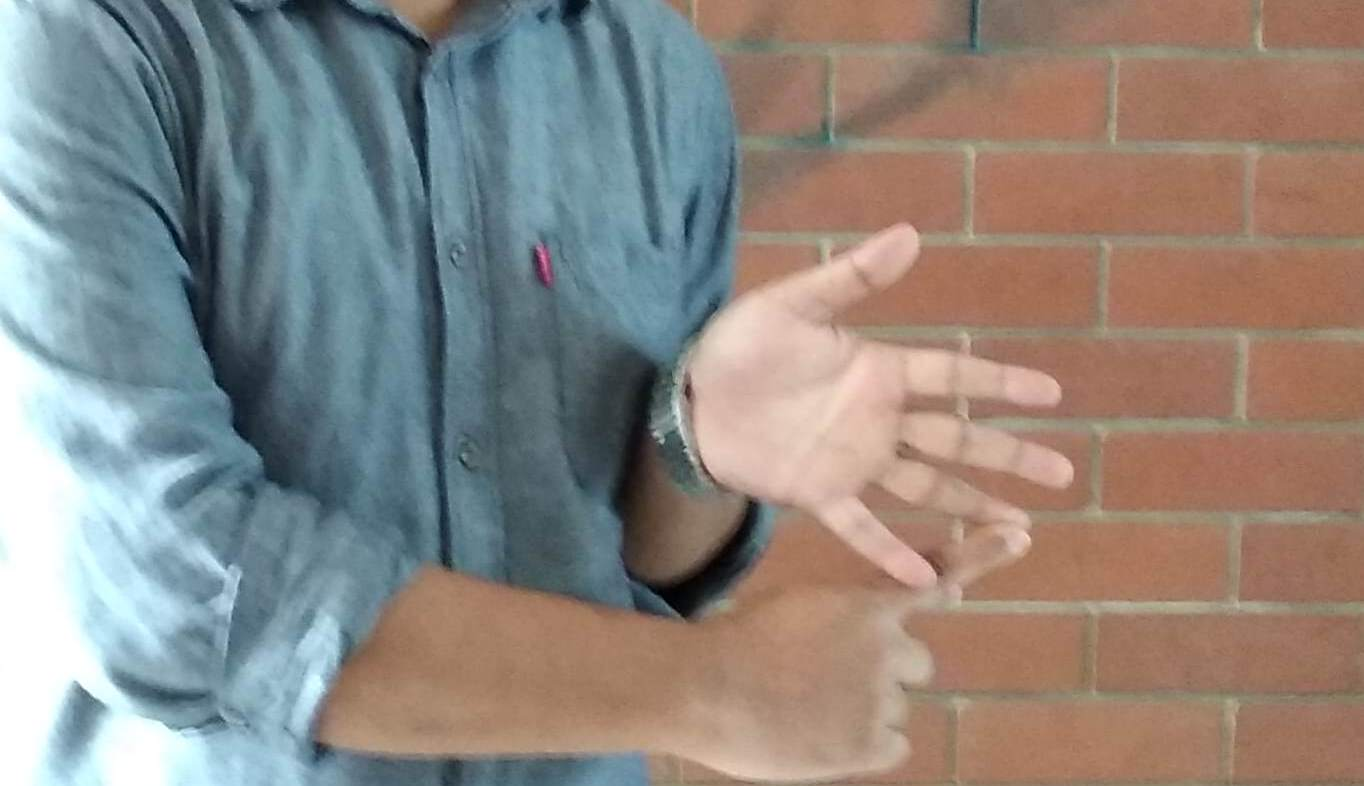e: (710, 272, 1080, 786)
